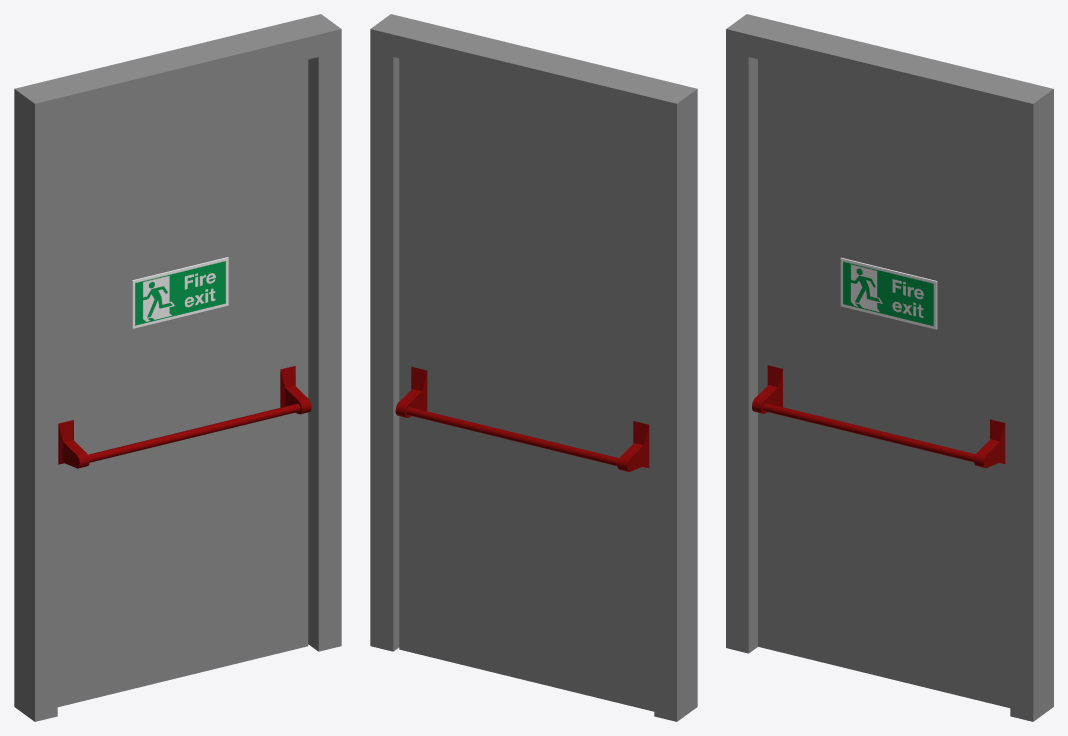
Rendered from Emergency door.fbx.
3 renders of one model, left to right at view 1: azimuth 30°, elevation 25°; view 2: azimuth 150°, elevation 25°; view 3: azimuth 330°, elevation 25°, orthographic.
Parts seen in each view (by area): view 1: Door, door frame; view 2: Door, door frame; view 3: Door, door frame.
Boxes of the visible parts, left/top/right/bottom form: Door: left=57, top=59, right=311, bottom=707; door frame: left=14, top=14, right=341, bottom=721; Door: left=395, top=58, right=654, bottom=711; door frame: left=370, top=14, right=697, bottom=721; Door: left=752, top=59, right=1010, bottom=707; door frame: left=726, top=14, right=1053, bottom=721.
Bounding box in the file's own units: 131 × 252 × 33.03.
3 materials, 2 textured.
